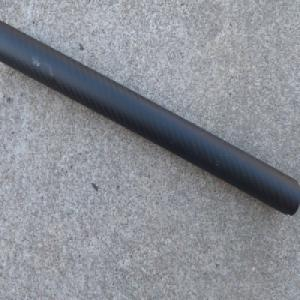LuggagePart: (0, 20, 300, 217)
